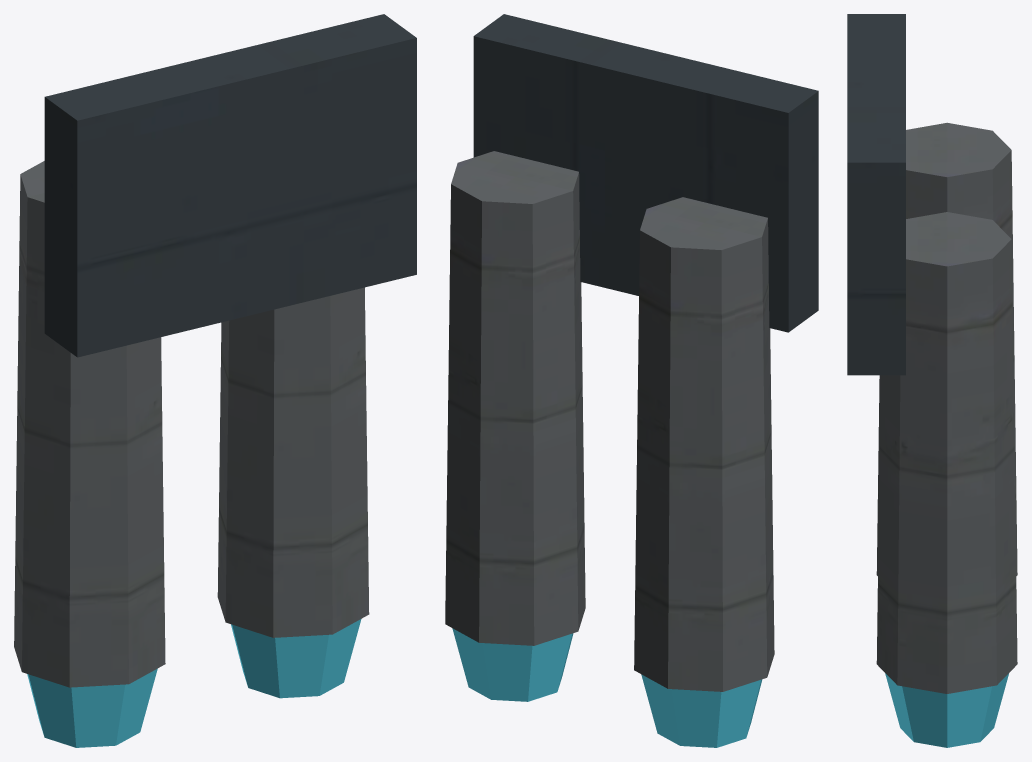
File: acc_jetpack_small.glb
3 renders of one model, left to right at view 1: azimuth 30°, elevation 25°; view 2: azimuth 150°, elevation 25°; view 3: azimuth 270°, elevation 25°, orthographic. The views are drawn at different scales.
Parts seen in each view (by area): view 1: acc_jetpack_small; view 2: acc_jetpack_small; view 3: acc_jetpack_small.
Part boxes in pixels (x1=…): acc_jetpack_small: x1=14, y1=14, x2=416, y2=747; acc_jetpack_small: x1=445, y1=14, x2=818, y2=747; acc_jetpack_small: x1=847, y1=14, x2=1017, y2=747.
Bounding box in the file's own units: 0.3 × 0.56 × 0.145.
Materials: 3 (2 with a texture image).
